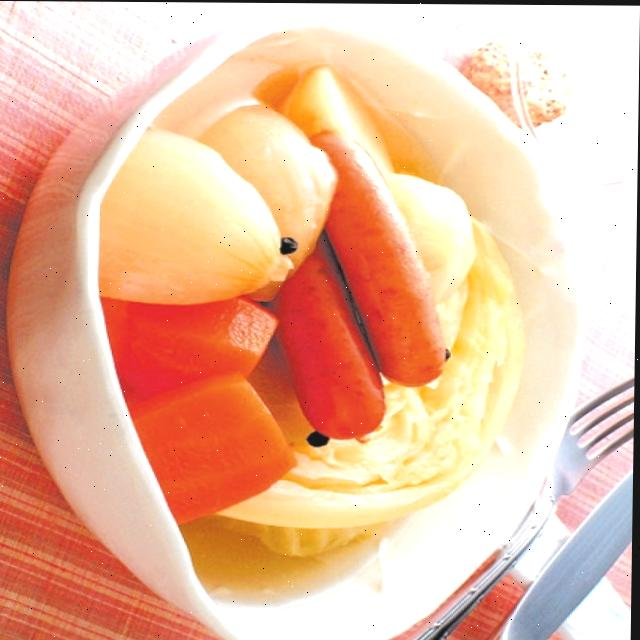汤锅炖物: (22, 24, 593, 620)
